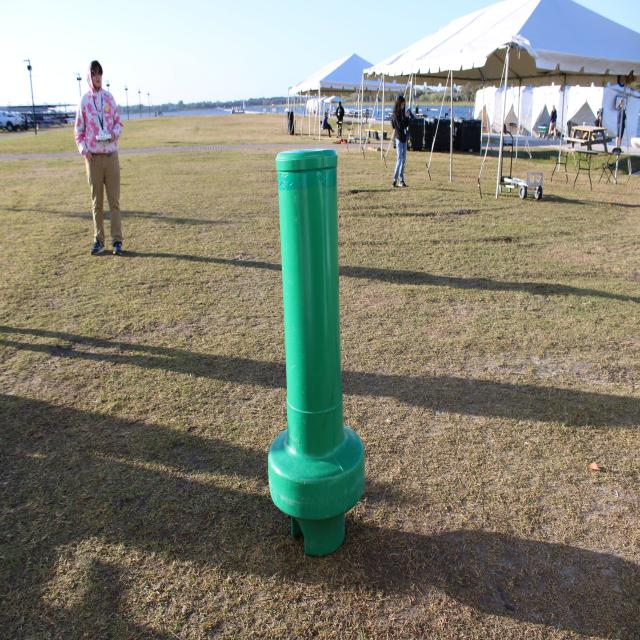green-column-buoy: (265, 153, 364, 491)
